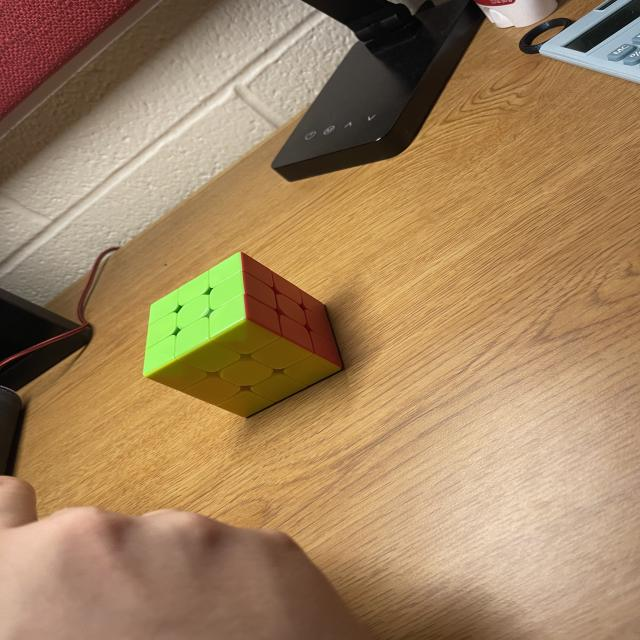Rubiks Cube: (143, 251, 344, 420)
